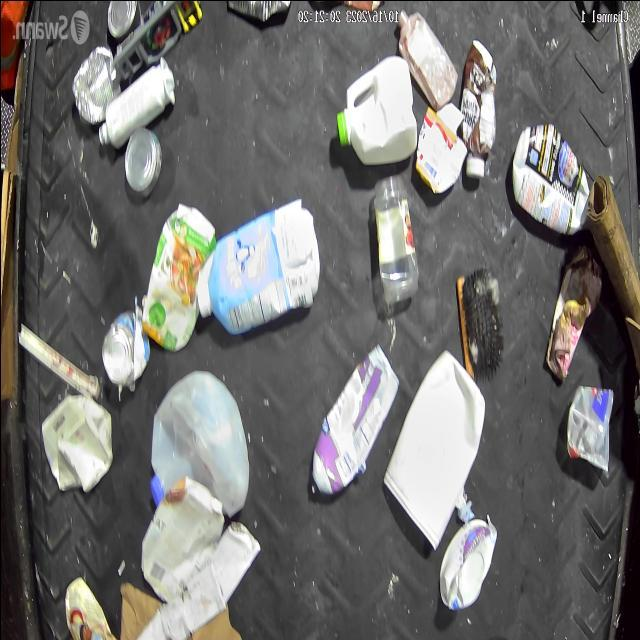can: (70, 43, 122, 123), (99, 307, 149, 387), (122, 128, 162, 198), (104, 0, 140, 41)
milk_jug: (148, 368, 249, 515), (335, 54, 417, 168)
non_white_jug: (195, 196, 318, 336), (510, 122, 589, 236)
